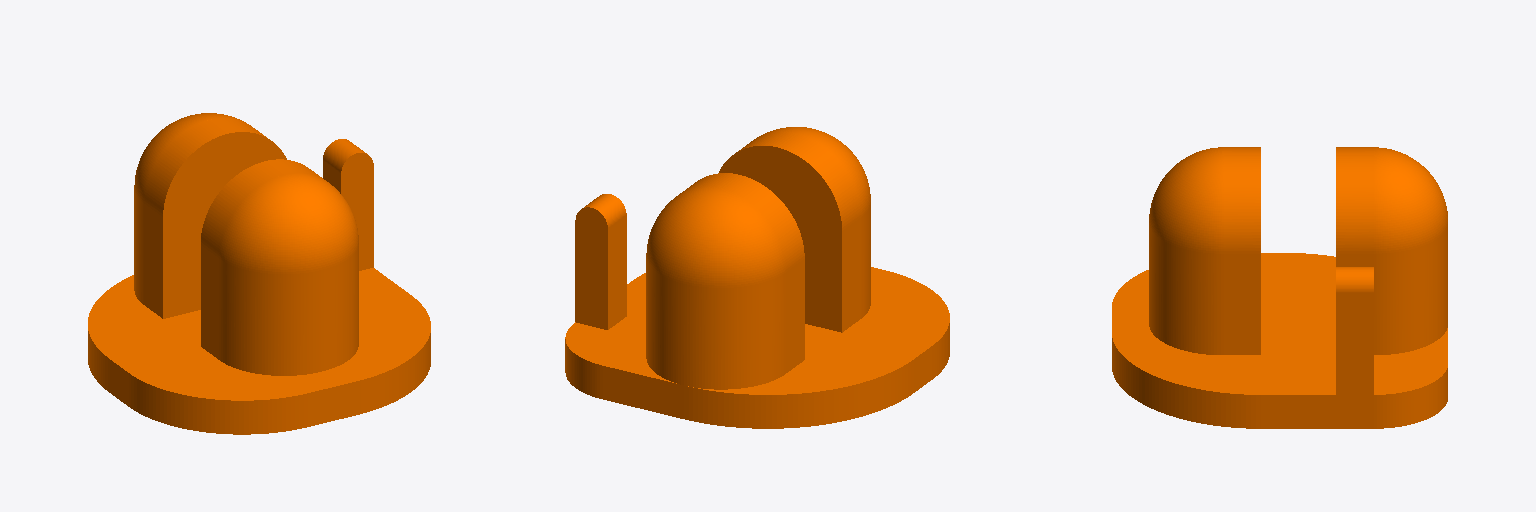
The model's file is column.obj.
3 renders of one model, left to right at view 1: azimuth 30°, elevation 25°; view 2: azimuth 150°, elevation 25°; view 3: azimuth 270°, elevation 25°, orthographic.
Visible parts, largest first — view 1: Part_Studio_1_-_Column; view 2: Part_Studio_1_-_Column; view 3: Part_Studio_1_-_Column.
Boxes of the visible parts, x1=… form: Part_Studio_1_-_Column: x1=88, y1=113, x2=430, y2=434; Part_Studio_1_-_Column: x1=565, y1=127, x2=949, y2=428; Part_Studio_1_-_Column: x1=1112, y1=147, x2=1447, y2=428.
Bounding box in the file's own units: 900 × 600 × 900.